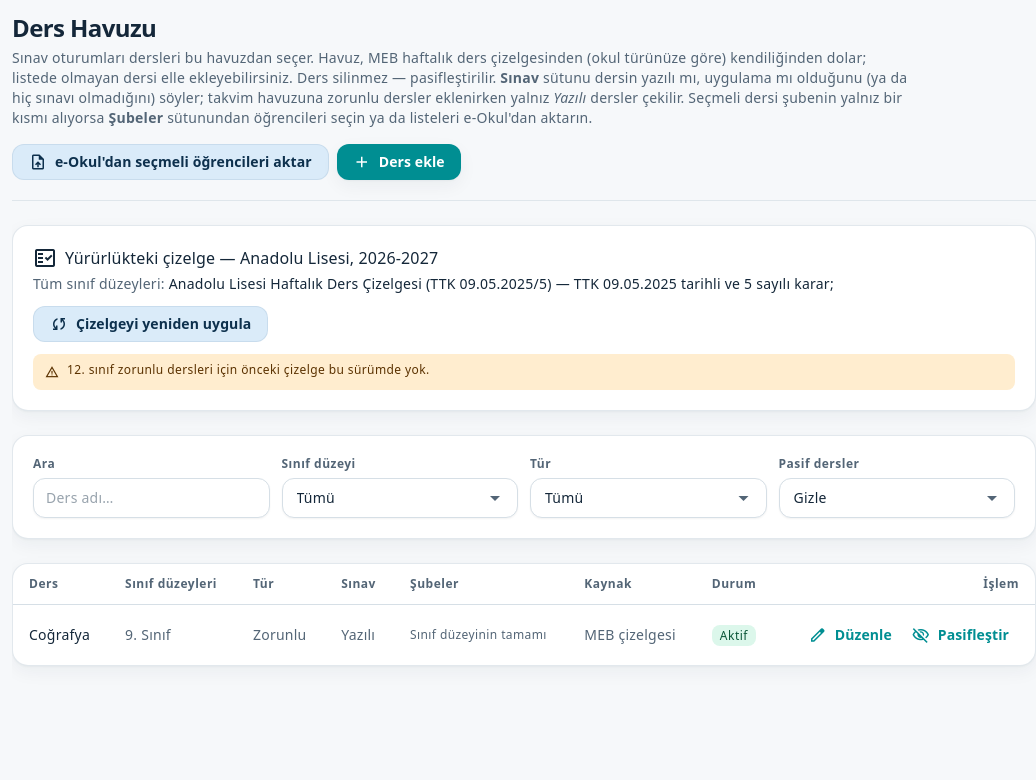
it: DersHavuzuPage › yürürlükteki çizelge panelini dayanağıyla basar; 'yeniden uygula' senkronu tetikler
Check: the text "Yürürlükteki çizelge — Anadolu Lisesi, 2026-2027" is shown, box [33,244,438,272]
Check: the text "TTK 09.05.2025 tarihli ve 5 sayılı karar" is shown, box [552,274,830,293]
Click the button "Çizelgeyi yeniden uygula": (151, 324) [33,306,268,342]
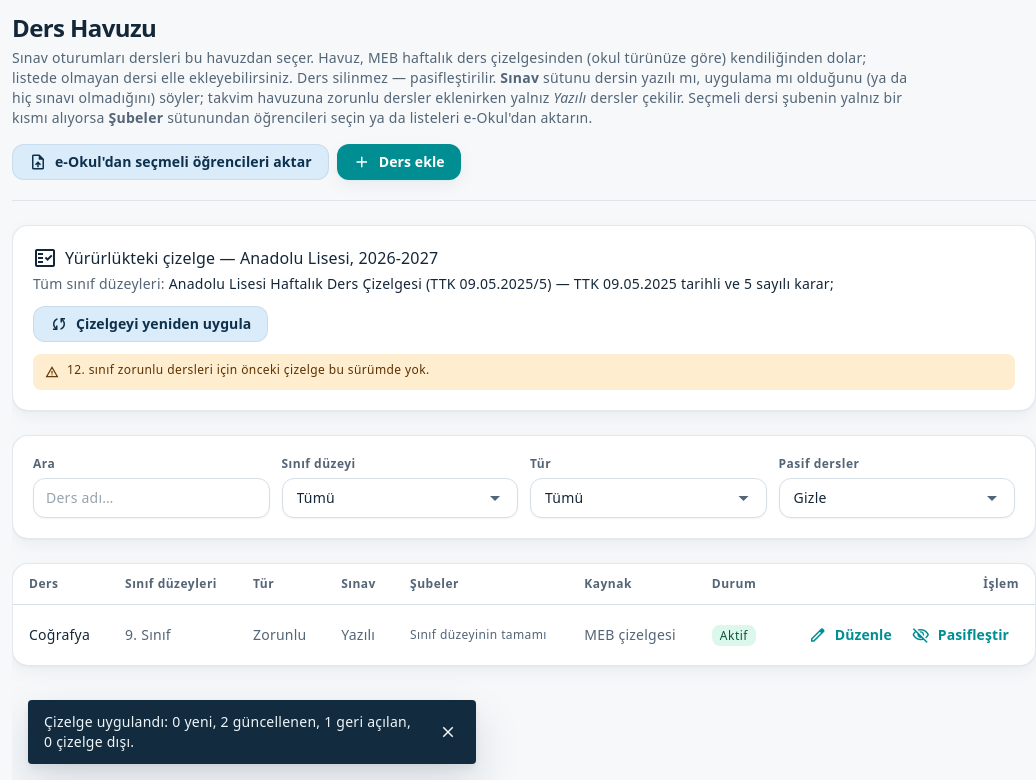
Check: the text "2 güncellenen, 1 geri açılan" is shown, box [44,712,411,751]
